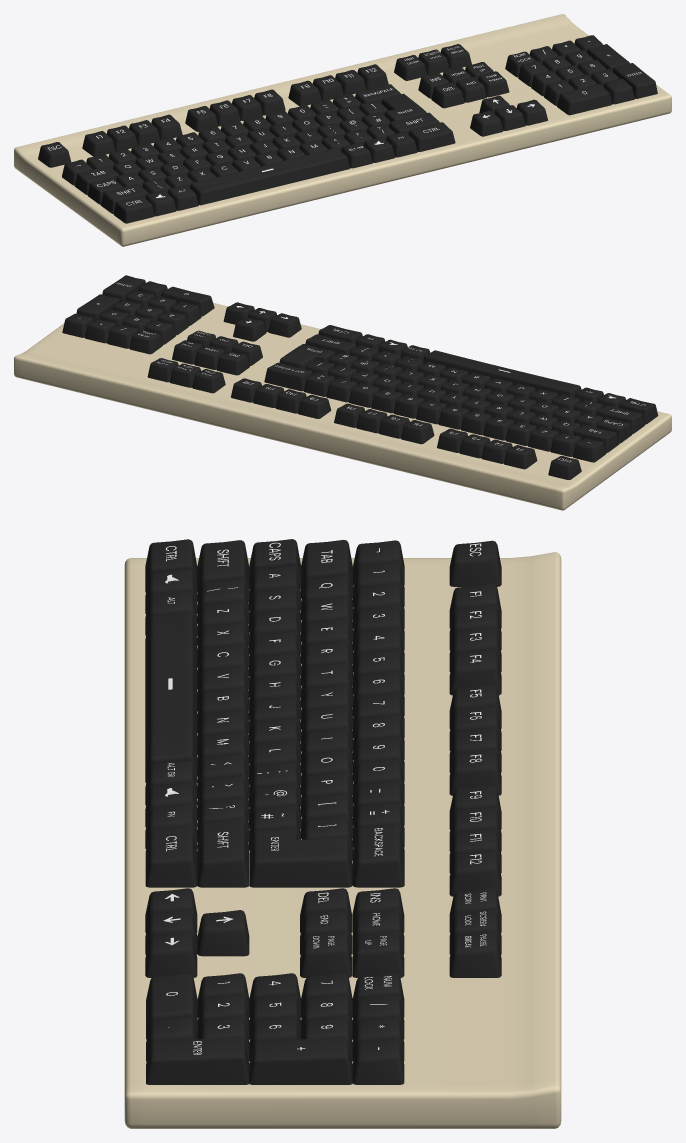
File: Keyboard.glb
3 views of the same model, one above another, from view 1: azimuth 30°, elevation 25°; view 2: azimuth 150°, elevation 25°; view 3: azimuth 270°, elevation 25° (orthographic). The views are drawn at different scales.
Parts seen in each view (by area): view 1: Keyboard, Keys.012, Keys.008, Keys.001, Keys.009, Keys.004, Keys.011, Keys.002, Key.018, ArrowLeft, Key.016, ESC (+35 smaller); view 2: Keyboard, Keys.012, Keys.007, Keys.011, Keys.008, Keys.002, Keys.006, Keys.009, Keys.010, Key.016, ArrowUp, F5 (+44 smaller); view 3: Keyboard, Keys.012, Keys.011, Keys.010, Keys.009, Keys.003, Keys.007, Keys.001, Keys.008, ArrowUp, Key.014, Key.080 (+94 smaller).
Part boxes in pixels (<box>): Keyboard: <box>14,14,671,246</box>; Keys.012: <box>190,147,350,205</box>; Keys.008: <box>557,84,612,115</box>; Keys.001: <box>408,122,455,151</box>; Keys.009: <box>612,63,657,98</box>; Keys.004: <box>113,195,154,223</box>; Keys.011: <box>381,93,426,121</box>; Keys.002: <box>100,183,148,213</box>; Key.018: <box>431,82,464,108</box>; ArrowLeft: <box>470,110,503,136</box>; Key.016: <box>394,55,427,80</box>; ESC: <box>38,142,71,167</box>; Keyboard: <box>14,303,671,510</box>; Keys.012: <box>423,350,581,397</box>; Keys.007: <box>264,362,312,391</box>; Keys.011: <box>279,344,335,369</box>; Keys.008: <box>161,286,214,316</box>; Keys.002: <box>596,405,644,433</box>; Keys.006: <box>574,425,619,452</box>; Keys.009: <box>102,275,145,301</box>; Keys.010: <box>76,294,119,320</box>; Key.016: <box>192,369,225,393</box>; ArrowUp: <box>233,317,266,341</box>; F5: <box>401,420,434,444</box>; Keyboard: <box>124,552,561,1128</box>; Keys.012: <box>145,612,197,782</box>; Keys.011: <box>249,829,352,887</box>; Keys.010: <box>249,1037,352,1084</box>; Keys.009: <box>146,1037,249,1084</box>; Keys.003: <box>197,819,248,887</box>; Keys.007: <box>352,824,404,887</box>; Keys.001: <box>145,826,197,887</box>; Keys.008: <box>146,973,197,1039</box>; ArrowUp: <box>197,910,249,956</box>; Key.014: <box>449,932,501,977</box>; Key.080: <box>352,1039,404,1084</box>.
Bounding box in the file's own units: 0.5964 × 0.0342 × 0.2045.
